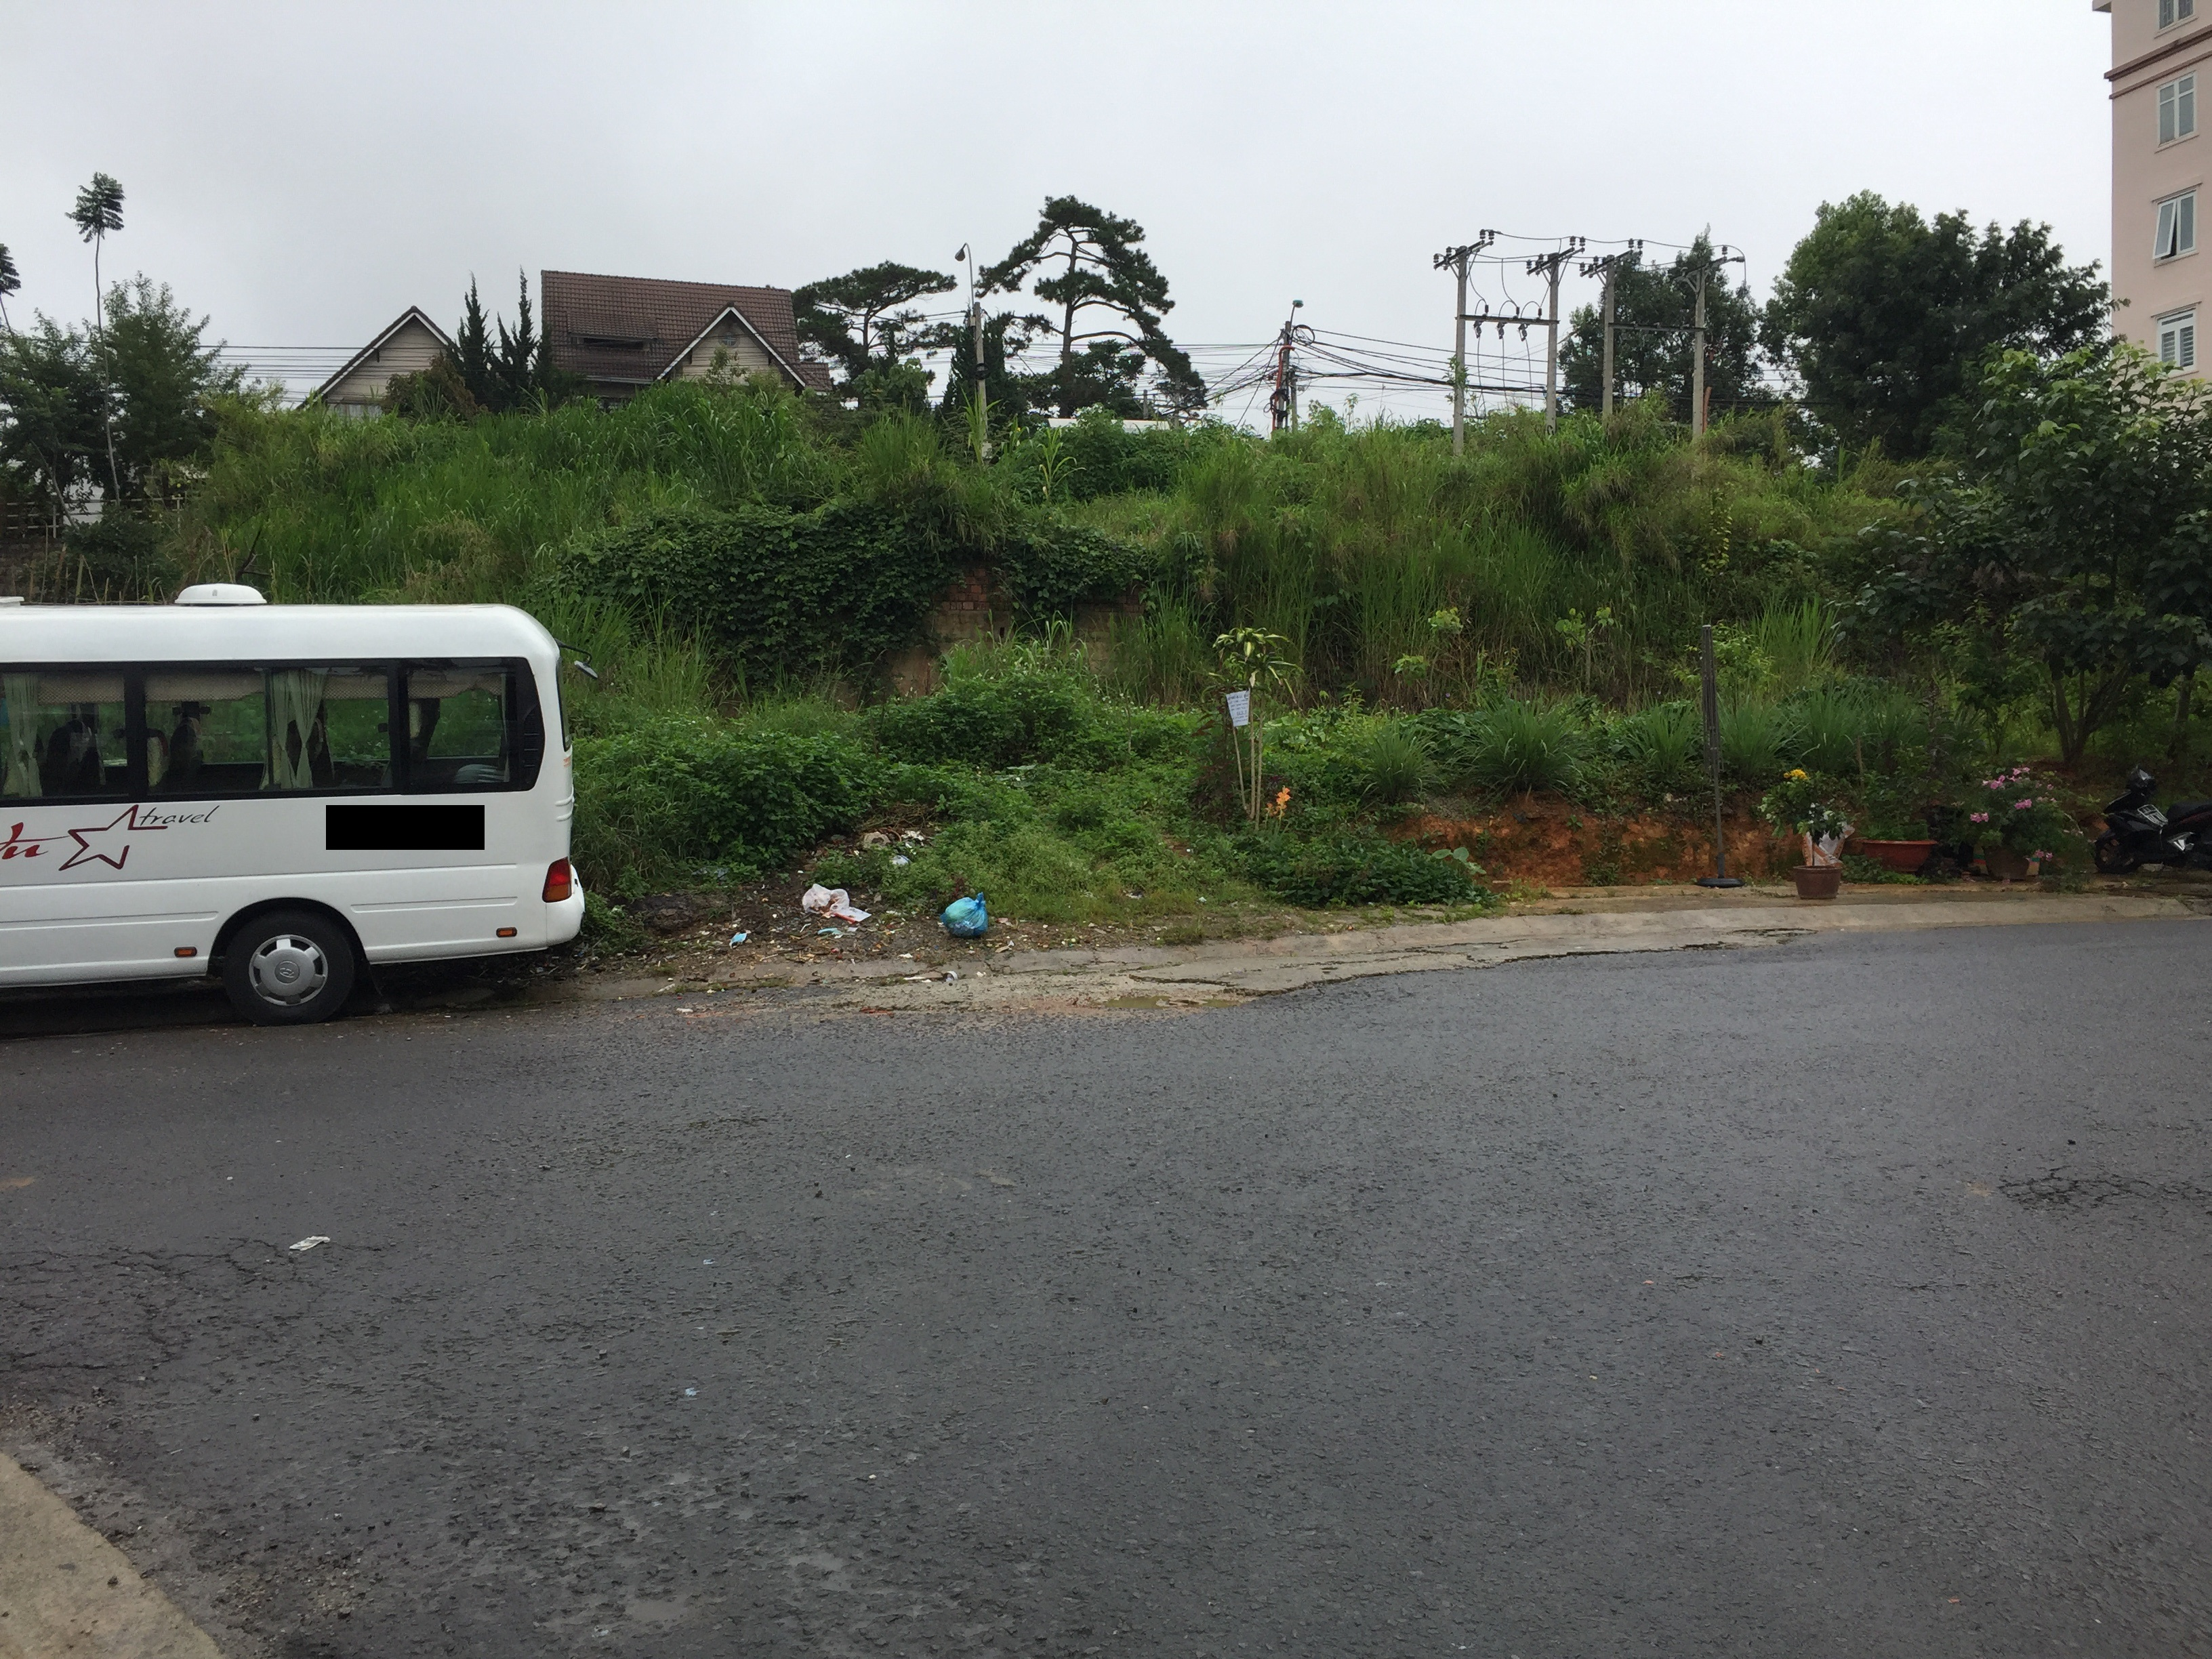hole: (1066, 986, 1252, 1016)
